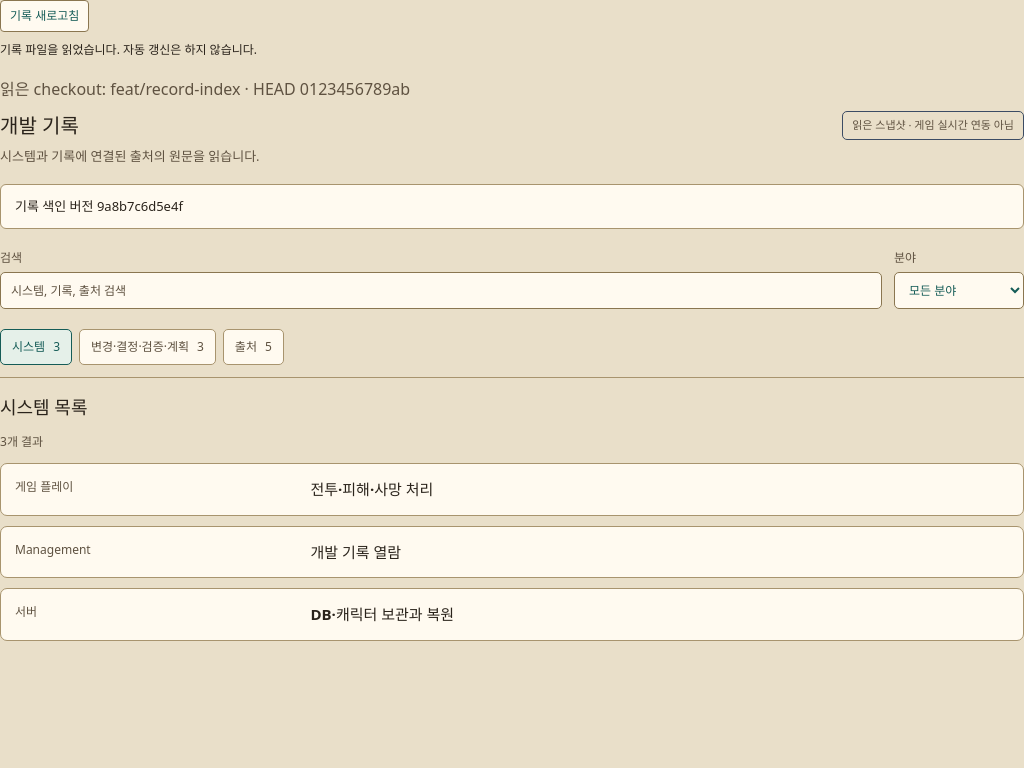
Scenario: lists without status wording › shows each source with title, path and section, readable ones as 원문 읽기 buttons and the rest as text
The width and height of the screenshot is (1024, 768).
Expected: the search field labelled "검색" is shown, [0, 272, 882, 309]
Click the button "출처 5" at (253, 347), box [223, 329, 284, 365]
(page scrolled)
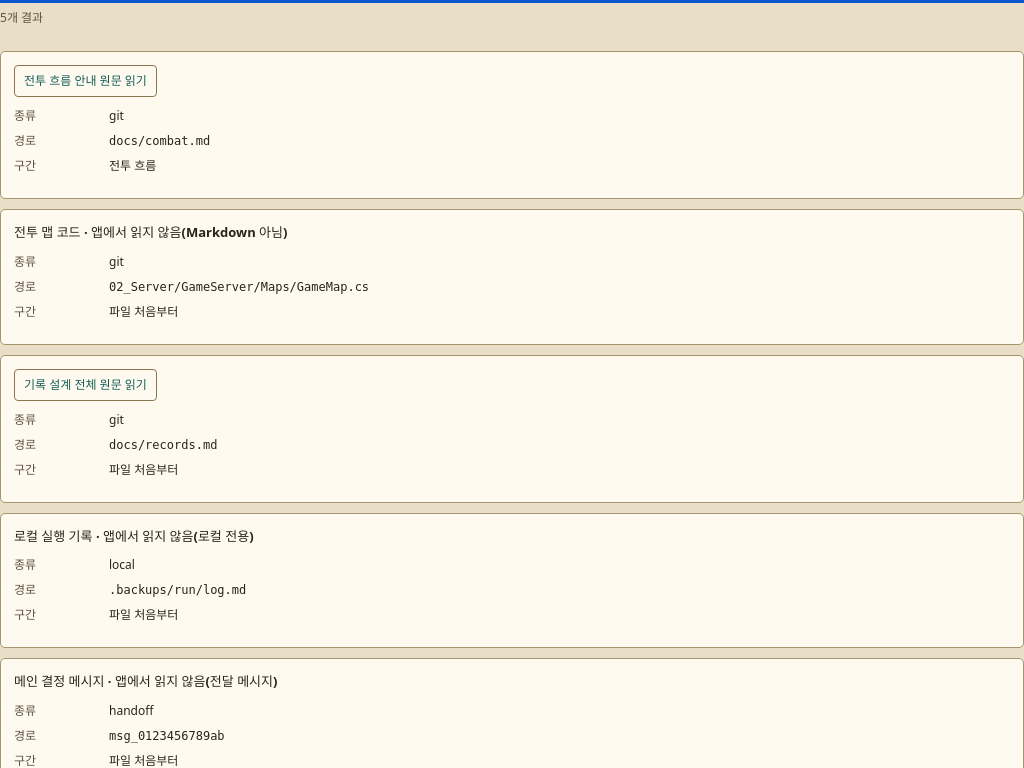
Now the text "전투 흐름 안내" is shown, box [14, 65, 157, 97]
Now the text "docs/combat.md" is shown, box [109, 134, 210, 148]
Now the text "전투 흐름" is shown, box [14, 65, 157, 97]
